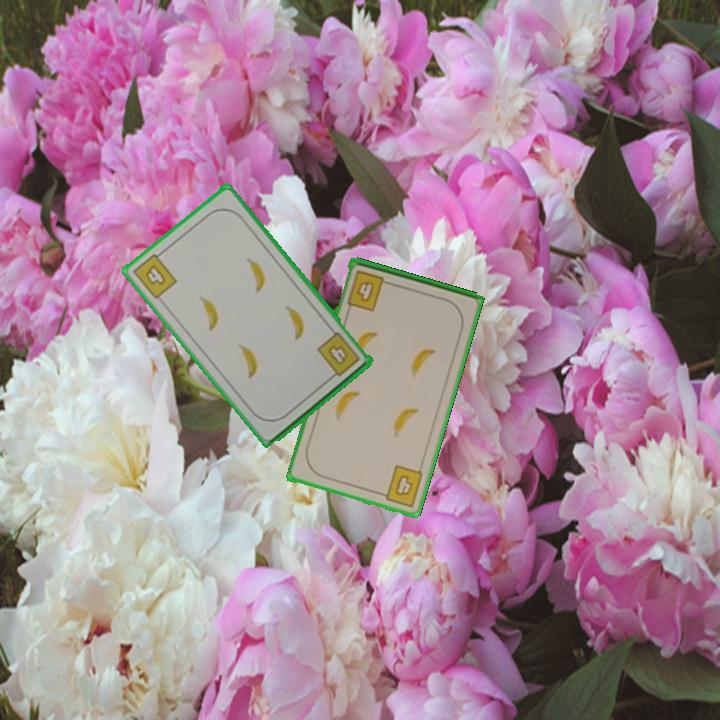4b: (129, 247, 180, 302), (313, 328, 363, 383), (375, 461, 426, 510), (344, 267, 394, 314)
